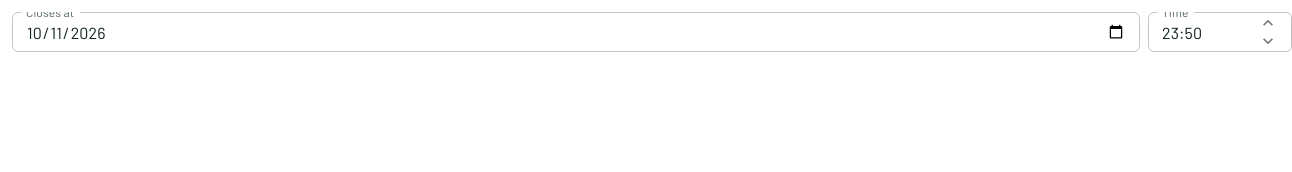
Test: DateTimeField › stepper › ArrowUp and ArrowDown step the time, wrapping within the day
Click the field named "Closes at (time)": (1201, 32) [1148, 12, 1254, 52]
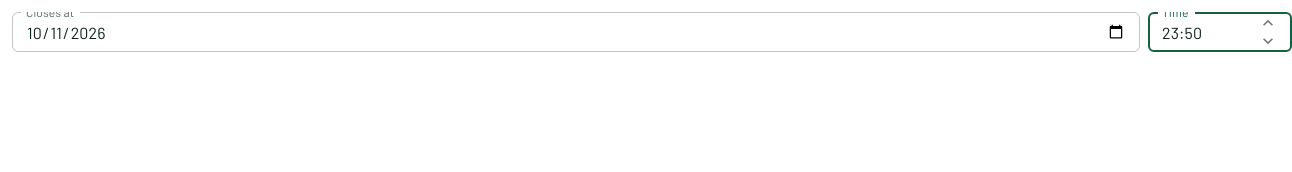
Press Arrowup
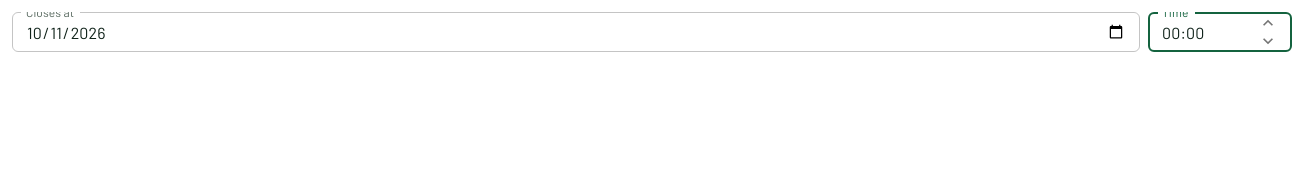
Check: the field named "Closes at (time)" holds "00:00", box [1148, 12, 1254, 52]
Press Arrowdown
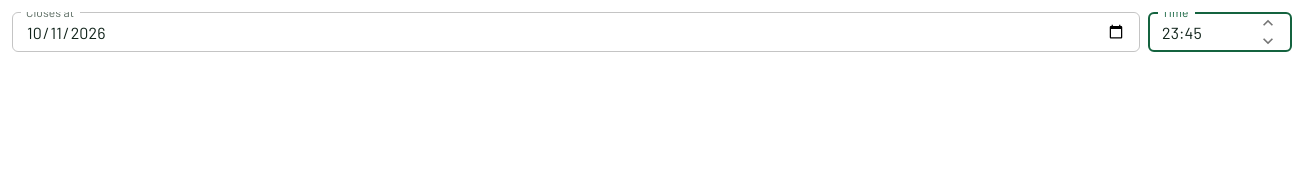
Check: the field named "Closes at (time)" holds "23:45", box [1148, 12, 1254, 52]
